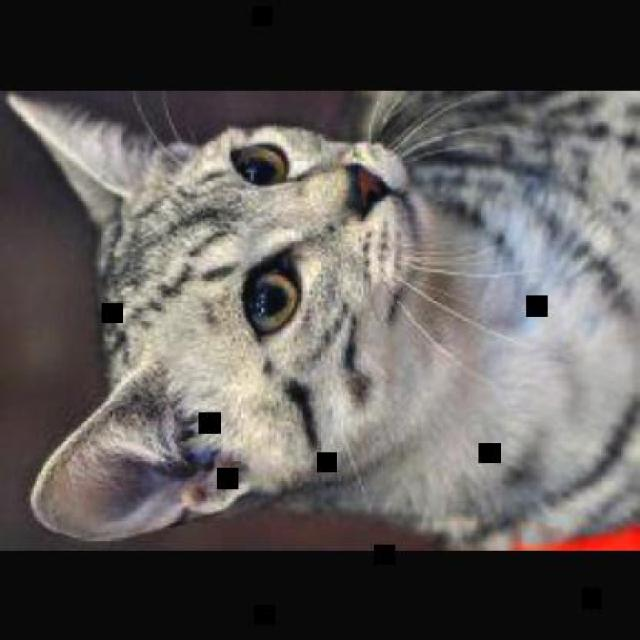unauthorized: (3, 88, 639, 549)
